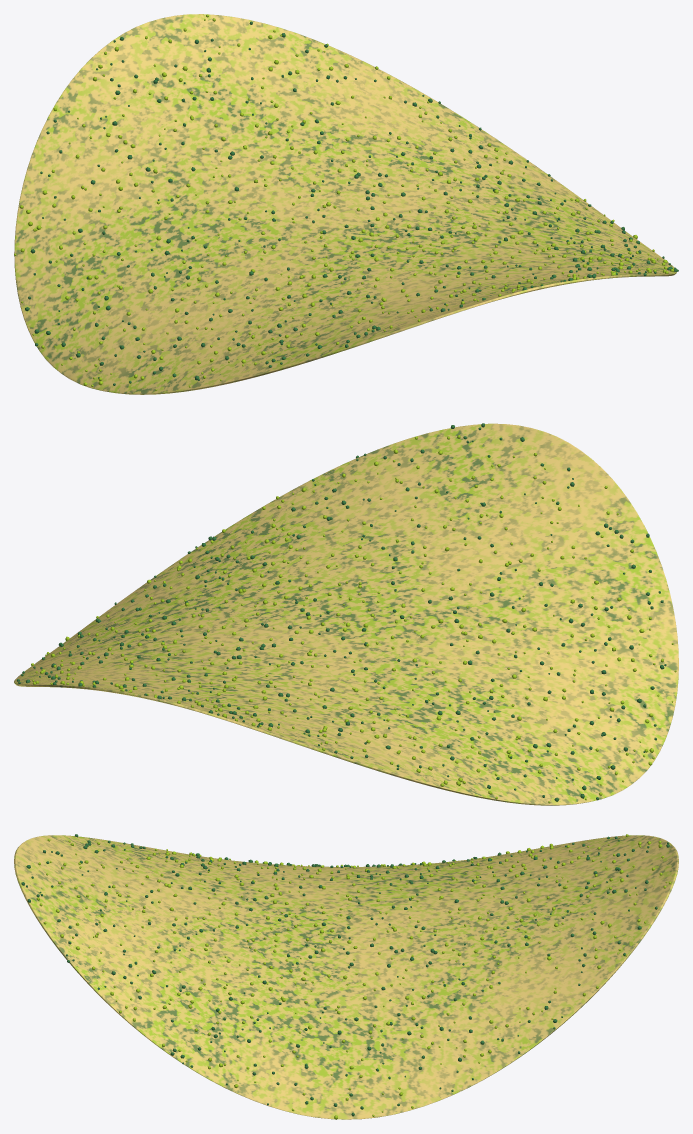
The model's file is Chip_Wasabi_v2.glb.
The picture shows the model from 3 angles, top to bottom: view 1: azimuth 30°, elevation 25°; view 2: azimuth 150°, elevation 25°; view 3: azimuth 270°, elevation 25°; orthographic projection. The views are drawn at different scales.
Visible parts, largest first — view 1: Chip_Wasabi, Powder_Wasabi_Baked; view 2: Chip_Wasabi, Powder_Wasabi_Baked; view 3: Chip_Wasabi, Powder_Wasabi_Baked.
Boxes of the visible parts, x1,y1,x2,y2 form: Chip_Wasabi: (14, 14, 676, 394); Powder_Wasabi_Baked: (14, 14, 678, 390); Chip_Wasabi: (14, 423, 678, 805); Powder_Wasabi_Baked: (17, 423, 676, 803); Chip_Wasabi: (14, 835, 678, 1119); Powder_Wasabi_Baked: (21, 834, 671, 1119).
Size of the model in its own units: 0.055 by 0.014 by 0.062.
Materials: 2 (2 with a texture image).
